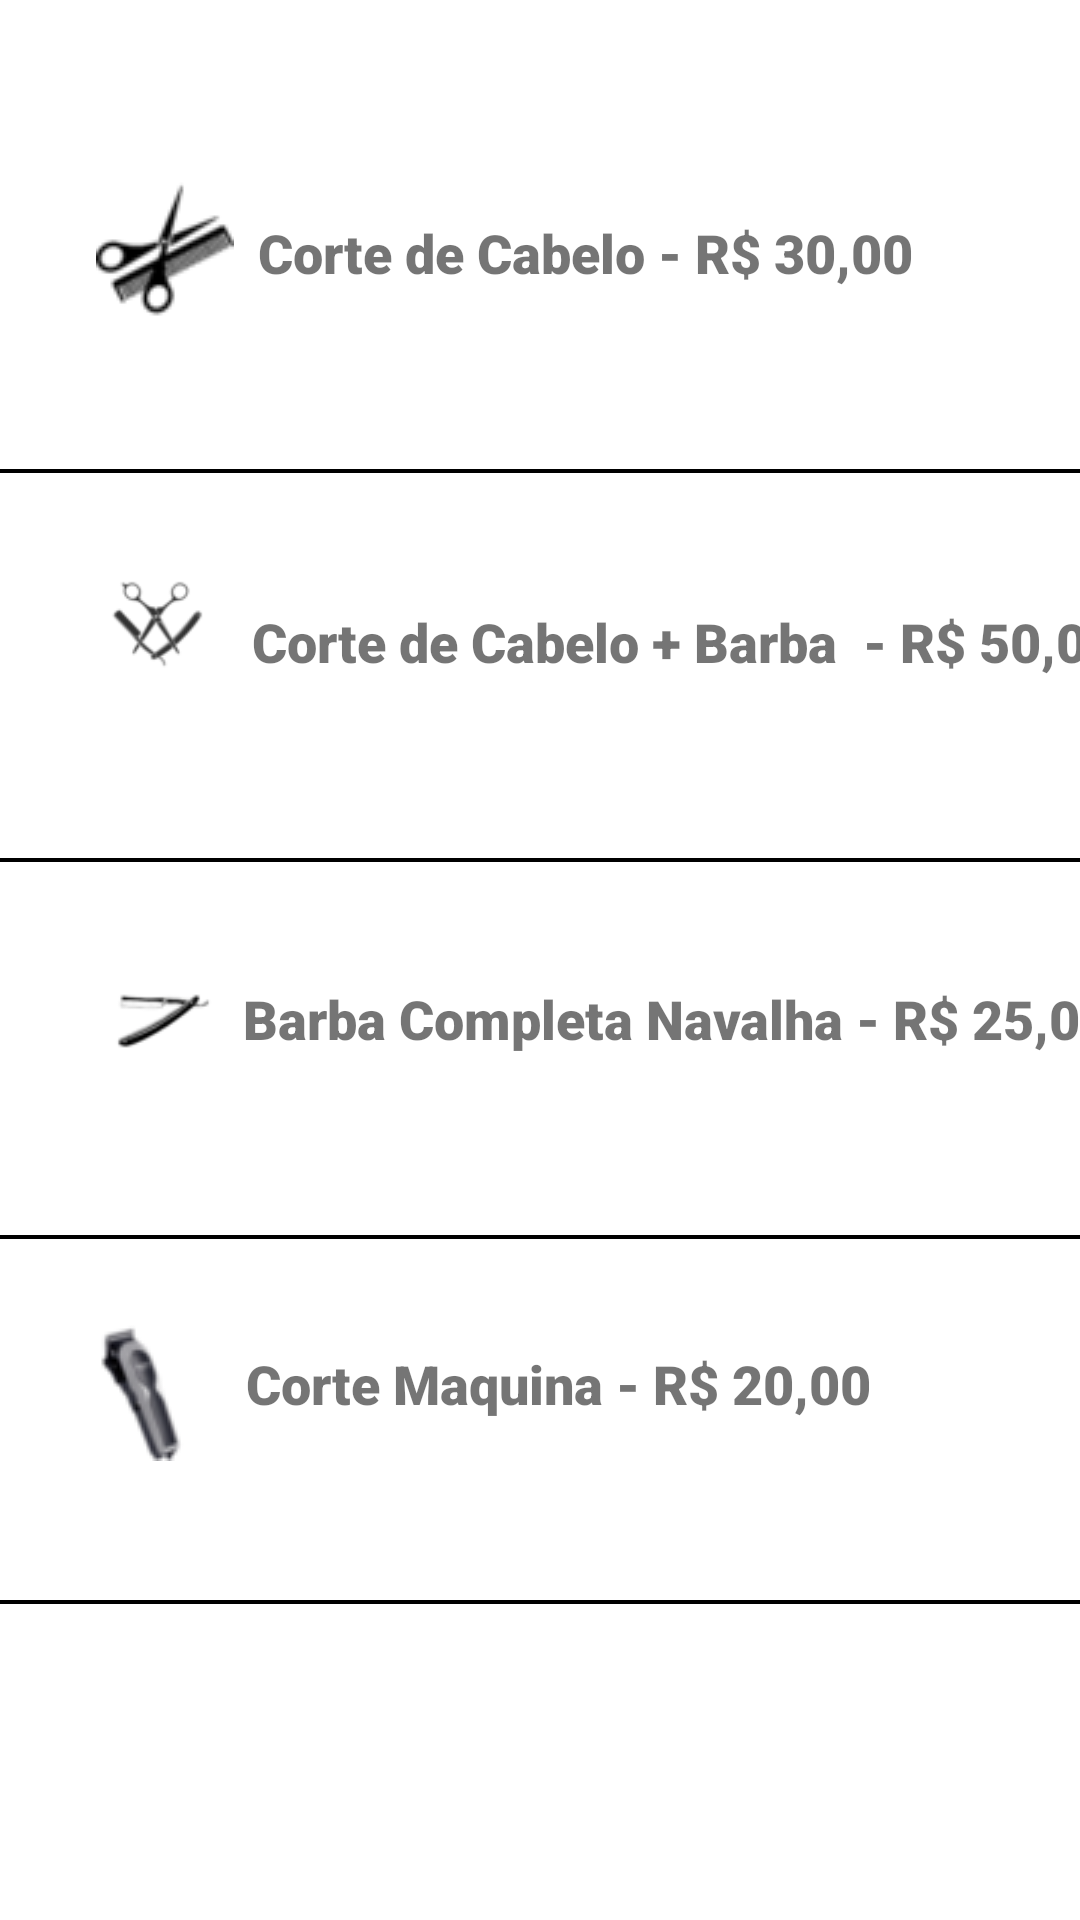

Screen size 1080w x 1920h. Icon name, then its center in pixels as (x,y):
tesoura pente: (165,250)
